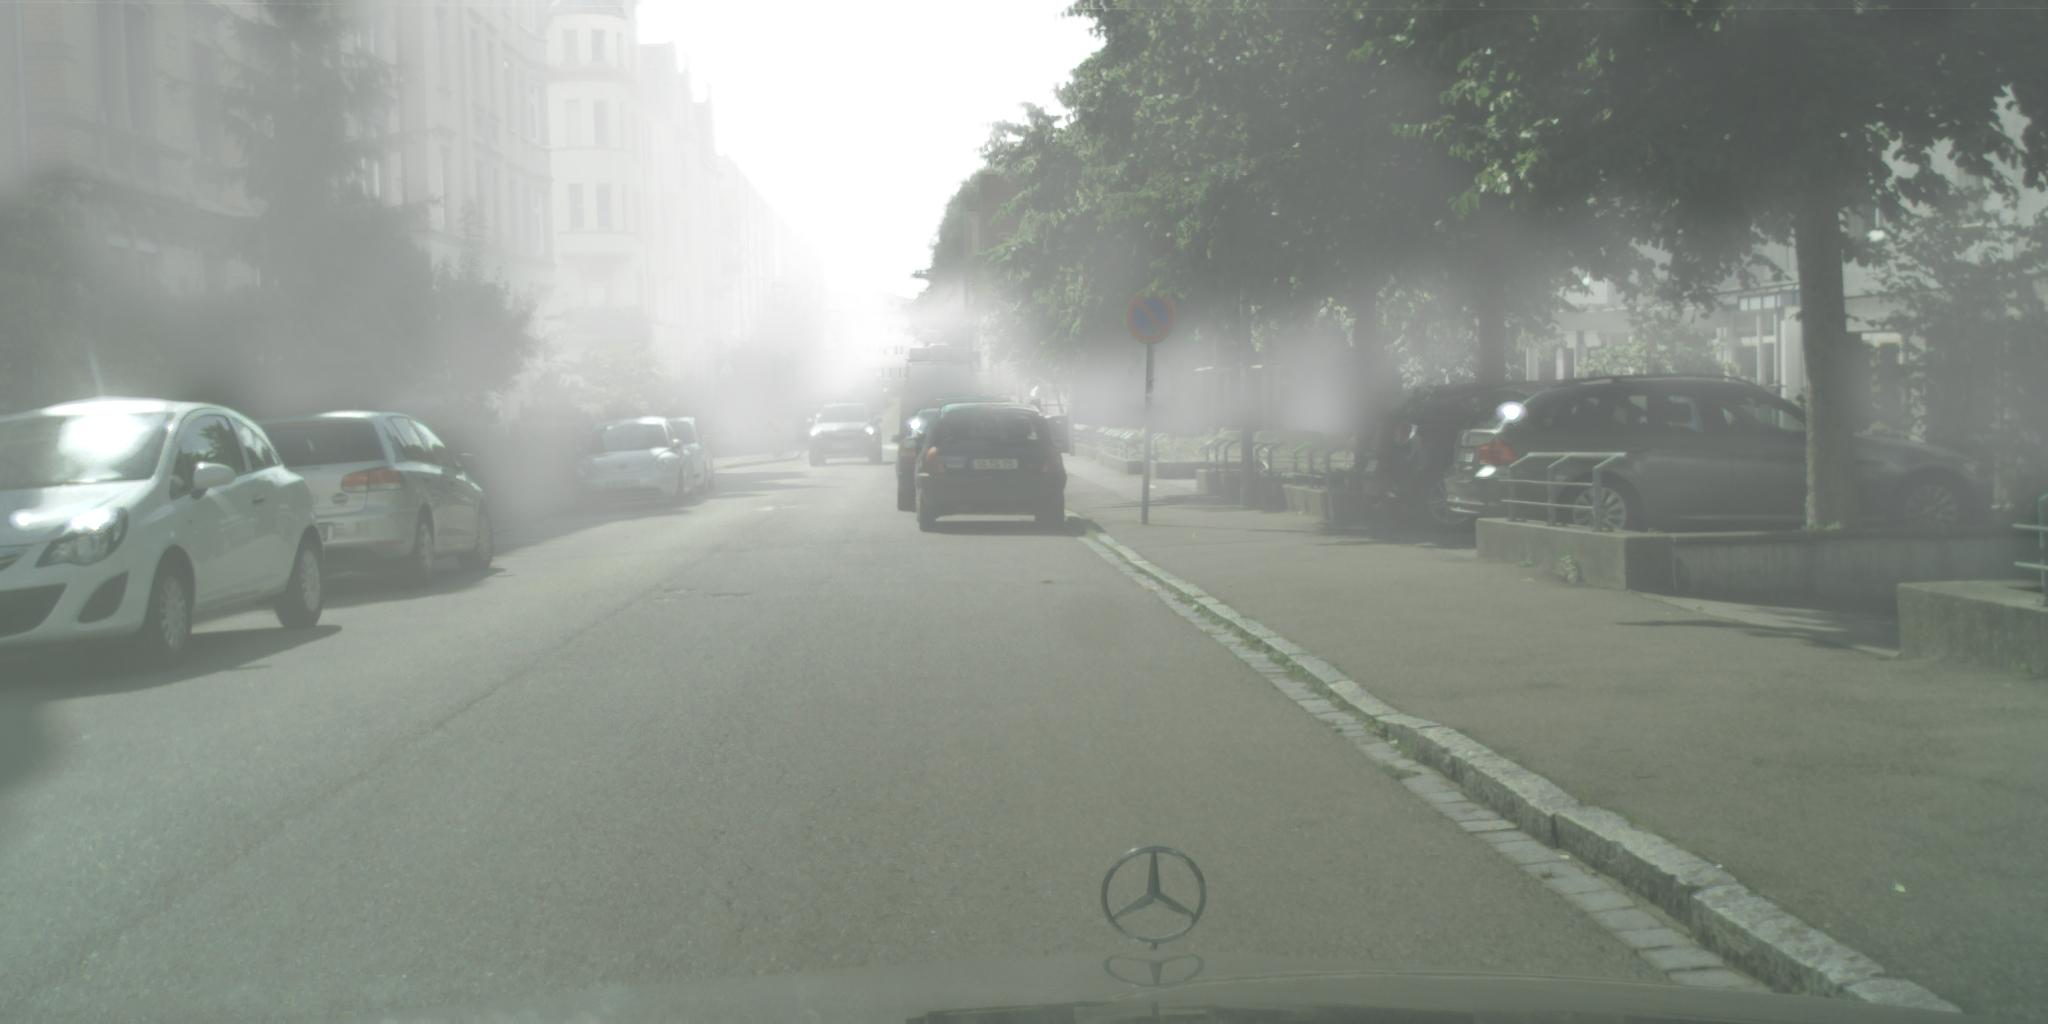car: (1, 398, 327, 677), (1445, 375, 1808, 538), (251, 409, 495, 592), (1364, 381, 1560, 534), (916, 404, 1068, 533), (1855, 434, 1994, 537), (572, 419, 696, 515), (899, 345, 987, 438), (645, 417, 717, 498), (892, 410, 946, 513), (808, 402, 884, 468), (926, 398, 1016, 415), (793, 404, 828, 444), (835, 398, 875, 427), (854, 384, 878, 417)
motorcycle: (754, 415, 775, 445)
